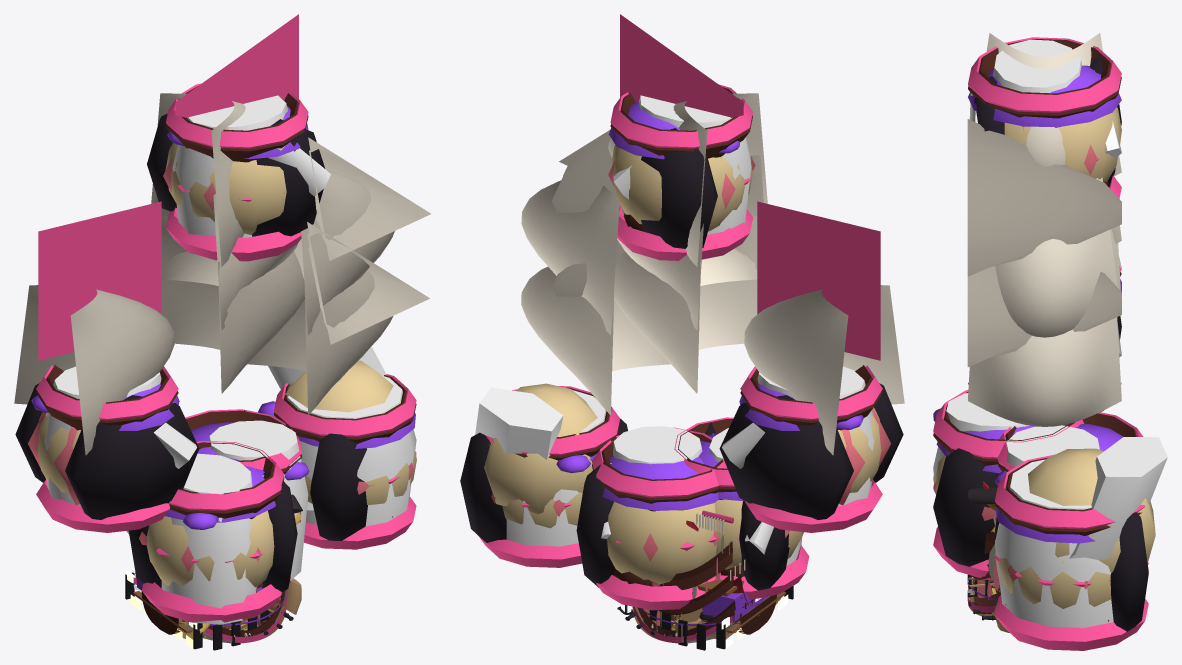
File: navire-barhaw.glb
3 views of the same model, side by side, from view 1: azimuth 30°, elevation 25°; view 2: azimuth 150°, elevation 25°; view 3: azimuth 270°, elevation 25° (orthographic). The views are drawn at different scales.
Parts seen in each view (by area): view 1: matelot_corde, matelot_barreur, matelot_vigie, matelot_salut, drapeau.001, voile_artimon, voile_grande.001, voile_misaine.001, matelot_porteur, voile_misaine_hune, flamme.001, voile_foc.001 (+5 smaller); view 2: matelot_barreur, matelot_porteur, matelot_vigie, drapeau.001, voile_artimon, matelot_salut, matelot_salut_bras, voile_grande.001, voile_misaine.001, navire_corps.001, matelot_corde, voile_misaine_hune (+5 smaller); view 3: matelot_salut, matelot_vigie, voile_foc.001, voile_misaine.001, matelot_corde, matelot_salut_bras, voile_misaine_hune, voile_foc2, matelot_porteur, voile_perroquet.001, navire_corps.001.
Part boxes in pixels (x1,y1,x2,y2): matelot_corde: (126, 441, 297, 624); matelot_barreur: (15, 365, 199, 532); matelot_vigie: (147, 83, 330, 261); matelot_salut: (258, 374, 416, 549); drapeau.001: (38, 201, 161, 360); voile_artimon: (14, 285, 174, 455); voile_grande.001: (161, 216, 304, 393); voile_misaine.001: (247, 270, 393, 415); matelot_porteur: (185, 409, 309, 580); voile_misaine_hune: (301, 170, 394, 335); flamme.001: (175, 14, 298, 117); voile_foc.001: (308, 137, 430, 260); matelot_barreur: (719, 365, 903, 532); matelot_porteur: (576, 426, 726, 610); matelot_vigie: (608, 84, 755, 260); drapeau.001: (757, 201, 880, 360); voile_artimon: (744, 285, 904, 455); matelot_salut: (460, 386, 627, 567); matelot_salut_bras: (475, 383, 597, 514); voile_grande.001: (614, 216, 757, 393); voile_misaine.001: (521, 266, 670, 415); navire_corps.001: (617, 510, 793, 650); matelot_corde: (674, 417, 809, 599); voile_misaine_hune: (521, 180, 619, 335); matelot_salut: (994, 454, 1148, 650); matelot_vigie: (968, 37, 1121, 198); voile_foc.001: (967, 119, 1121, 276); voile_misaine.001: (968, 317, 1121, 426); matelot_corde: (933, 390, 1083, 580); matelot_salut_bras: (1028, 437, 1167, 573); voile_misaine_hune: (995, 177, 1117, 337); voile_foc2: (967, 266, 1121, 366); matelot_porteur: (995, 412, 1148, 570); voile_perroquet.001: (986, 33, 1121, 176); navire_corps.001: (967, 481, 1009, 632).
Size of the model in its own units: 6.2 by 9 by 3.05.
